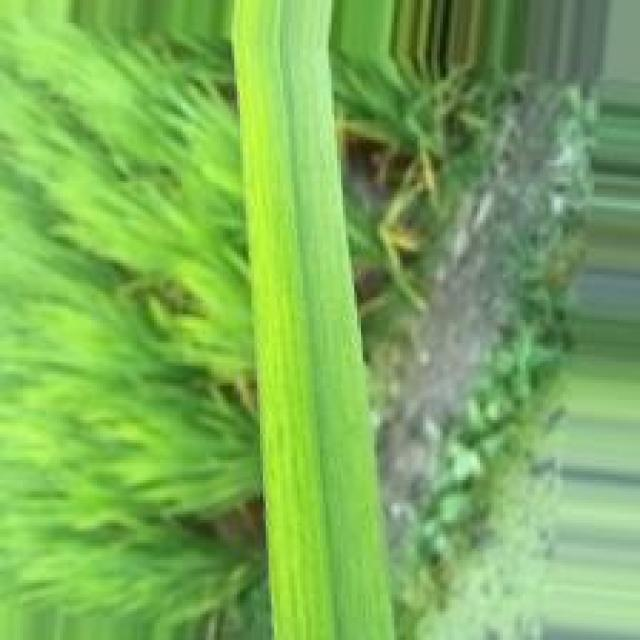HealthyLeaf: (268, 46, 388, 634)
